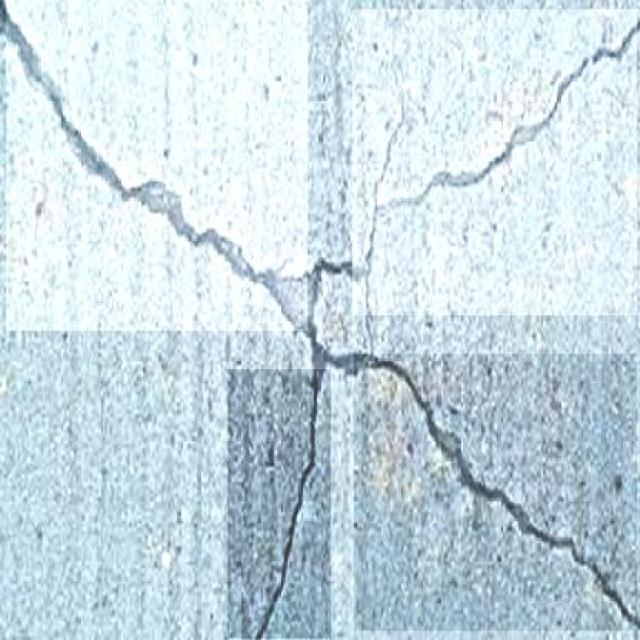Crack: (3, 3, 320, 334), (356, 338, 640, 640), (327, 23, 640, 288), (237, 366, 343, 640)
